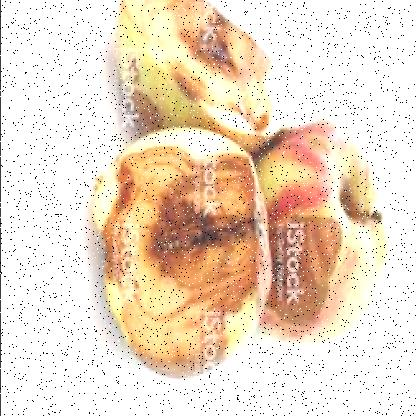damaged_apple: (87, 132, 273, 382), (255, 107, 399, 342), (116, 0, 275, 146)
